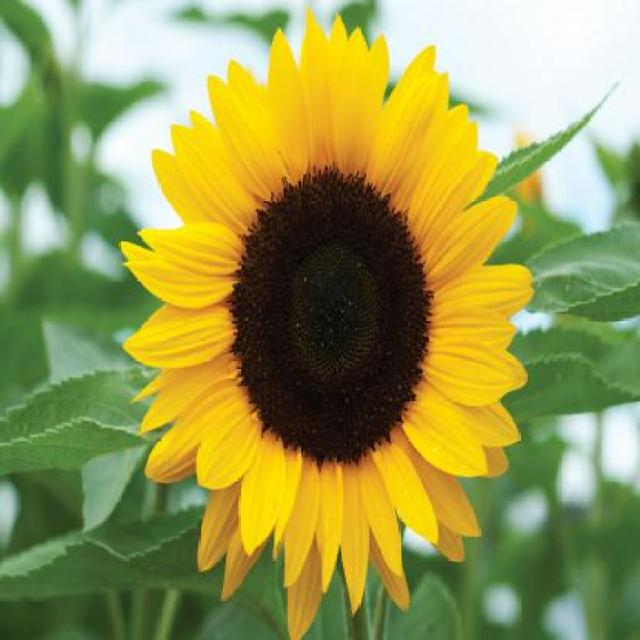sunflower: (120, 12, 552, 639)
